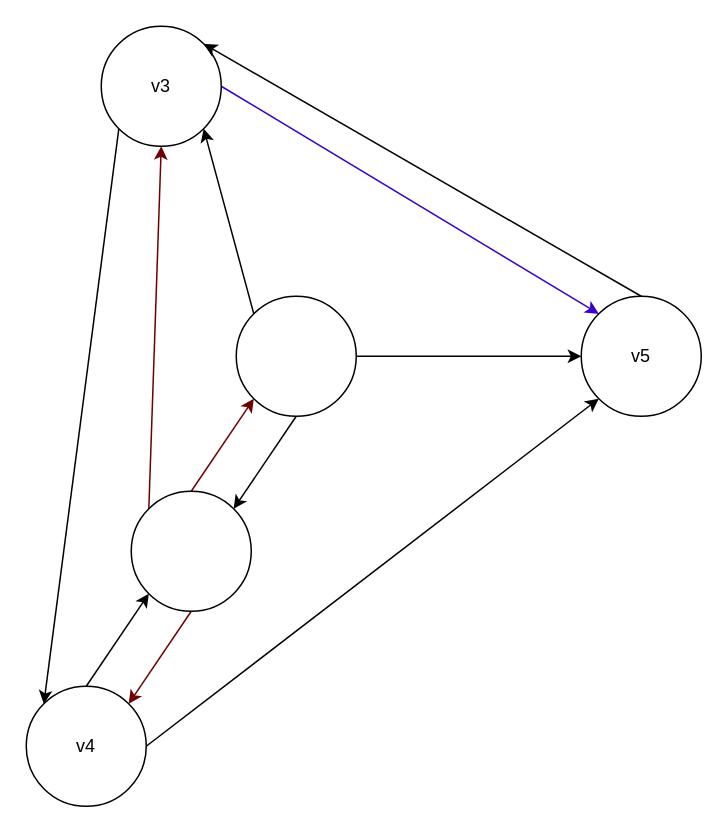
The diagram is 728 pixels wide and 833 high, and some of its shapes have lost their labels. The shapes that lost their labels are listed below. From the top down, each one's box as (x1, y1, x2, y2) in pixels, then its label:
(235, 295, 356, 416): v2
(130, 490, 251, 611): v1
